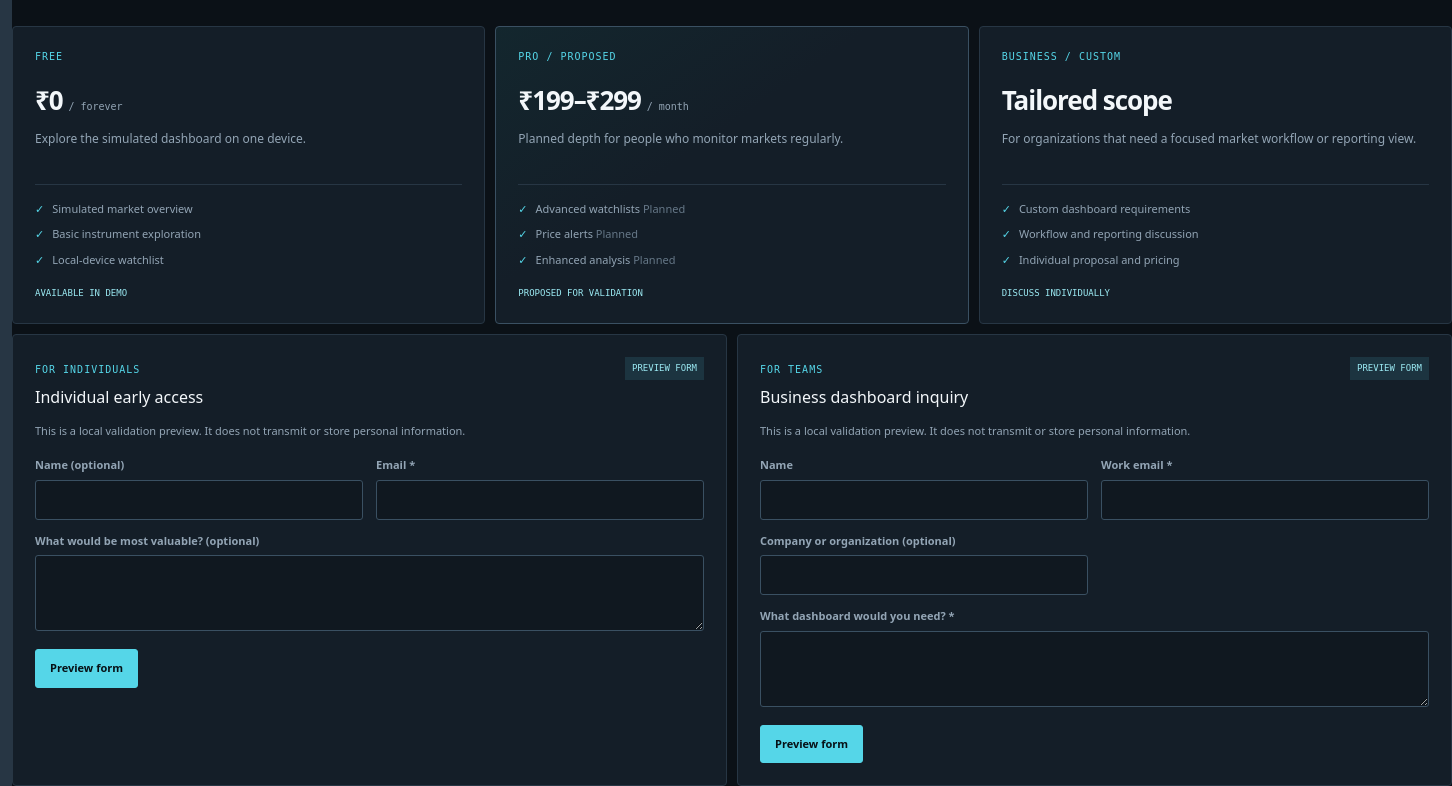
Scenario: Demand validation › validates individual email locally and reports that nothing was sent
(page scrolled)
Submit the form "Individual early access", box x1=12 y1=334 x2=727 y2=785
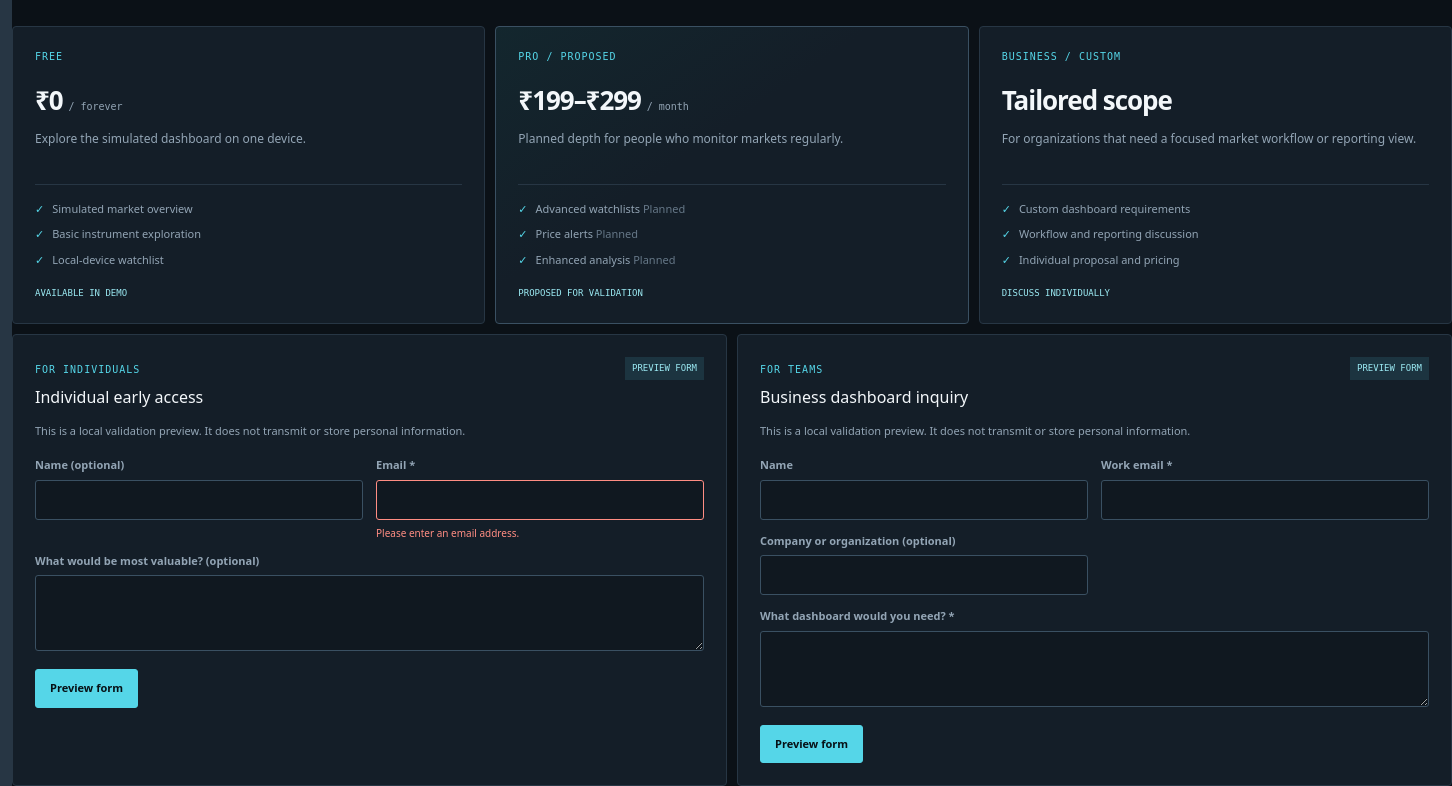
Now the text "Please enter an email address." is shown, box x1=376 y1=526 x2=519 y2=540
Type "person@example.com" into the field labelled "Email *" at (540, 500), box x1=376 y1=480 x2=704 y2=520
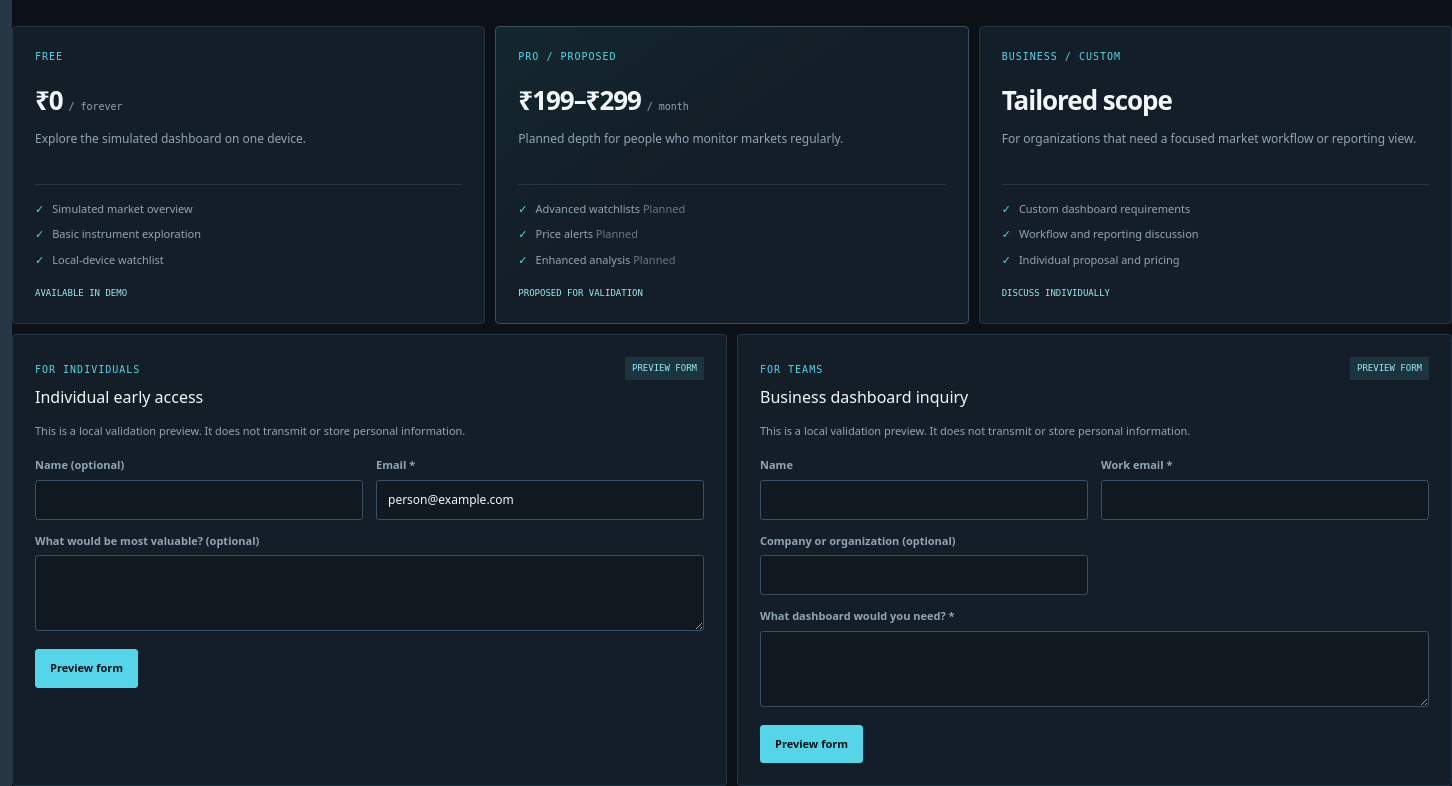
Submit the form "Individual early access", box x1=12 y1=334 x2=727 y2=785
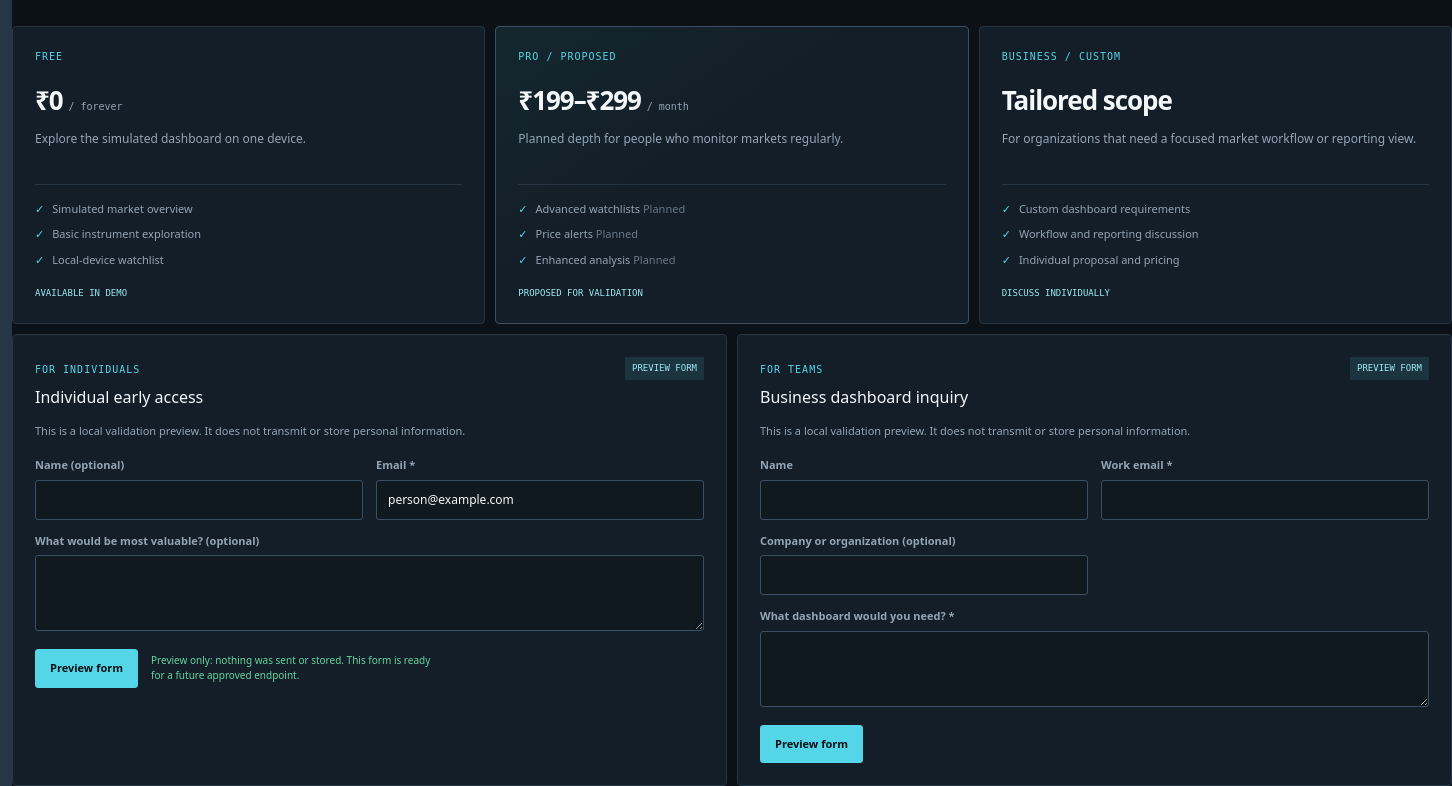
Now the message shows "nothing was sent or stored", box x1=151 y1=653 x2=430 y2=682
